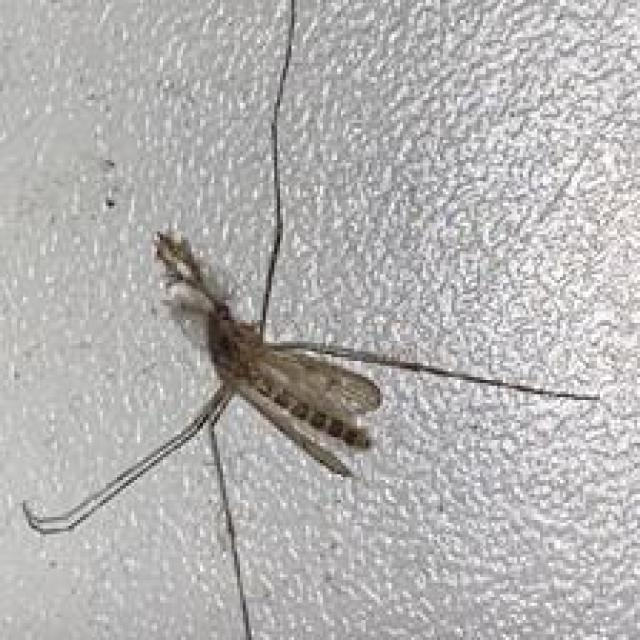Culex: (21, 0, 602, 640)
